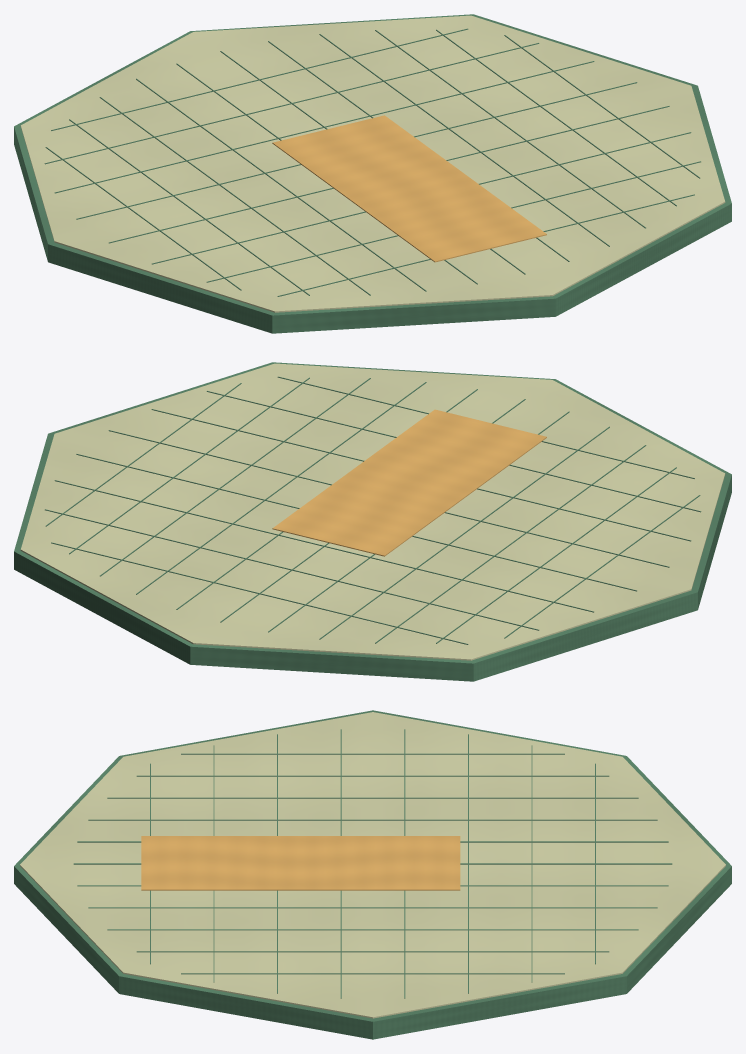
File: atlas100-s003-a07.glb
The picture shows the model from 3 angles, top to bottom: view 1: azimuth 30°, elevation 25°; view 2: azimuth 150°, elevation 25°; view 3: azimuth 270°, elevation 25°; orthographic projection.
Parts seen in each view (by area): view 1: atlas100-s003-a07:part-001, atlas100-s003-a07:part-000, atlas100-s003-a07:part-021, atlas100-s003-a07:part-015, atlas100-s003-a07:part-014, atlas100-s003-a07:part-016, atlas100-s003-a07:part-017, atlas100-s003-a07:part-018, atlas100-s003-a07:part-013, atlas100-s003-a07:part-019, atlas100-s003-a07:part-009, atlas100-s003-a07:part-005 (+3 smaller); view 2: atlas100-s003-a07:part-001, atlas100-s003-a07:part-000, atlas100-s003-a07:part-021, atlas100-s003-a07:part-015, atlas100-s003-a07:part-014, atlas100-s003-a07:part-017, atlas100-s003-a07:part-016, atlas100-s003-a07:part-018, atlas100-s003-a07:part-013, atlas100-s003-a07:part-019, atlas100-s003-a07:part-009, atlas100-s003-a07:part-005 (+3 smaller); view 3: atlas100-s003-a07:part-001, atlas100-s003-a07:part-000, atlas100-s003-a07:part-021, atlas100-s003-a07:part-005, atlas100-s003-a07:part-009, atlas100-s003-a07:part-004, atlas100-s003-a07:part-010, atlas100-s003-a07:part-003, atlas100-s003-a07:part-011, atlas100-s003-a07:part-002, atlas100-s003-a07:part-012, atlas100-s003-a07:part-007 (+2 smaller).
Boxes of the visible parts, x1,y1,x2,y2 form: atlas100-s003-a07:part-001: (20,15,725,312); atlas100-s003-a07:part-000: (14,14,731,333); atlas100-s003-a07:part-021: (272,115,546,262); atlas100-s003-a07:part-015: (54,61,594,193); atlas100-s003-a07:part-014: (44,43,539,164); atlas100-s003-a07:part-016: (76,82,637,219); atlas100-s003-a07:part-017: (109,106,669,243); atlas100-s003-a07:part-018: (152,132,691,264); atlas100-s003-a07:part-013: (51,28,468,130); atlas100-s003-a07:part-019: (206,161,700,282); atlas100-s003-a07:part-009: (319,34,609,246); atlas100-s003-a07:part-005: (136,78,426,291); atlas100-s003-a07:part-001: (20,363,725,660); atlas100-s003-a07:part-000: (14,362,731,681); atlas100-s003-a07:part-021: (272,409,546,556); atlas100-s003-a07:part-015: (54,480,593,612); atlas100-s003-a07:part-014: (45,509,539,630); atlas100-s003-a07:part-017: (108,430,669,567); atlas100-s003-a07:part-016: (76,454,636,591); atlas100-s003-a07:part-018: (151,409,691,541); atlas100-s003-a07:part-013: (51,542,468,644); atlas100-s003-a07:part-019: (206,391,701,512); atlas100-s003-a07:part-009: (136,382,426,594); atlas100-s003-a07:part-005: (319,426,609,639); atlas100-s003-a07:part-001: (20,712,725,1018); atlas100-s003-a07:part-000: (14,710,731,1039); atlas100-s003-a07:part-021: (141,836,460,890); atlas100-s003-a07:part-005: (88,819,657,820); atlas100-s003-a07:part-009: (88,907,657,908); atlas100-s003-a07:part-004: (107,797,638,798); atlas100-s003-a07:part-010: (107,929,638,930); atlas100-s003-a07:part-003: (136,775,609,776); atlas100-s003-a07:part-011: (136,951,609,952); atlas100-s003-a07:part-002: (181,753,564,754); atlas100-s003-a07:part-012: (181,973,564,974); atlas100-s003-a07:part-007: (73,863,672,864).
Bounding box in the file's own units: 12.75 × 0.404 × 12.42.
Materials: 3 (3 with a texture image).
